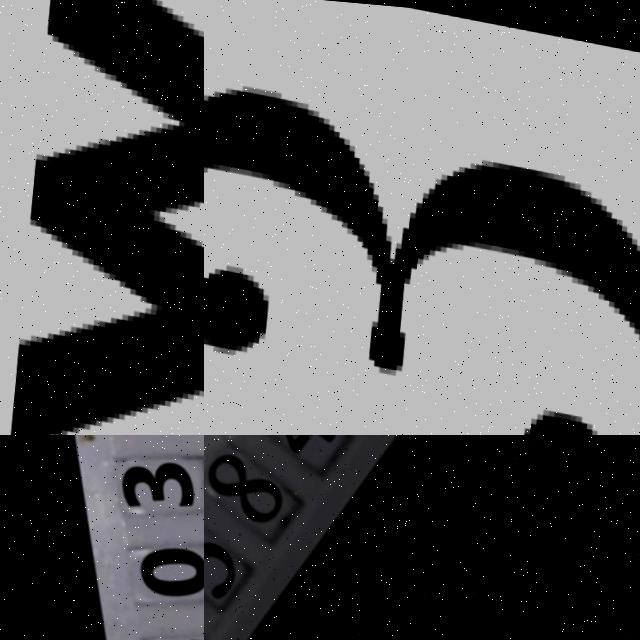0: (116, 520, 204, 613)
3: (204, 61, 640, 435), (97, 435, 204, 530), (204, 494, 257, 614)
4: (229, 435, 354, 475)
6: (128, 612, 204, 640)
8: (204, 435, 303, 547)
W: (0, 0, 204, 435)
